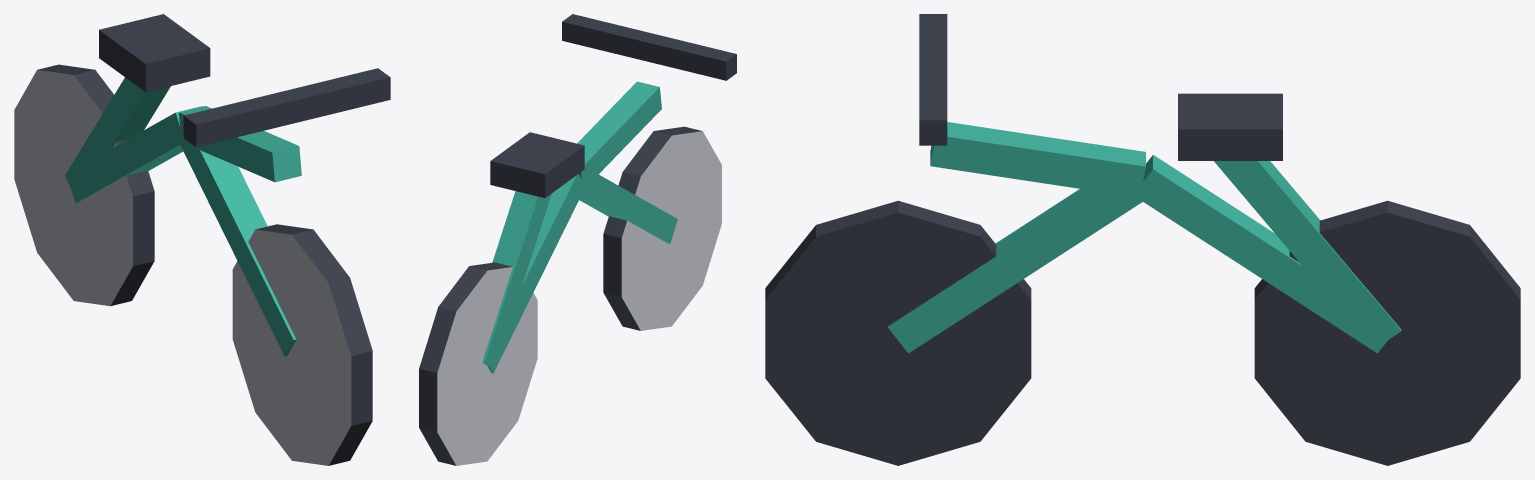
Rendered from vehicle_bicycle.glb.
3 renders of one model, left to right at view 1: azimuth 30°, elevation 25°; view 2: azimuth 150°, elevation 25°; view 3: azimuth 270°, elevation 25°, orthographic. The views are drawn at different scales.
Parts seen in each view (by area): view 1: vehicle_bicycle; view 2: vehicle_bicycle; view 3: vehicle_bicycle.
Boxes of the visible parts, bbox=[...] form: vehicle_bicycle: bbox=[14, 14, 390, 465]; vehicle_bicycle: bbox=[419, 14, 736, 465]; vehicle_bicycle: bbox=[765, 14, 1520, 465].
Size of the model in its own units: 0.036 by 0.062 by 0.108.
